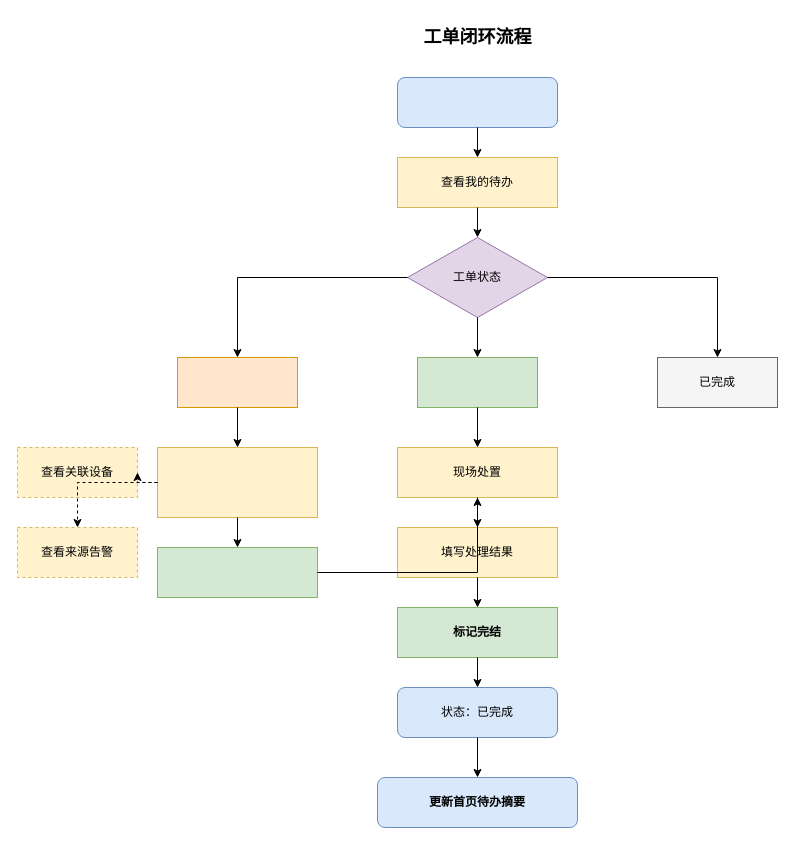
Some shapes in this 795 by 845 pixel diagram are drawn without their labels. Each missing label, with the centre of its shape:
"处理中" goes at [477,382].
"待接单" goes at [237,382].
"打开工单 Tab" goes at [477,102].
"打开工单详情 设备 / 告警来源 / 描述" goes at [237,482].
"接单" goes at [237,572].
